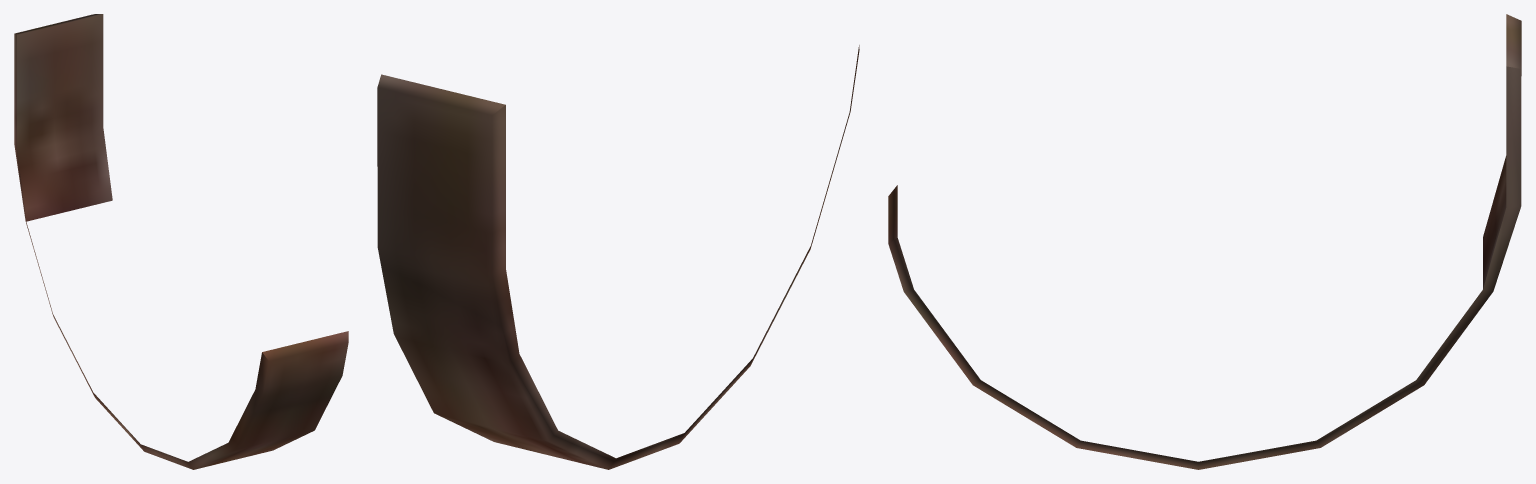
File: gutter_cornice_support.glb
3 views of the same model, side by side, from view 1: azimuth 30°, elevation 25°; view 2: azimuth 150°, elevation 25°; view 3: azimuth 270°, elevation 25° (orthographic). The views are drawn at different scales.
Parts seen in each view (by area): view 1: gutter_cornice_support; view 2: gutter_cornice_support; view 3: gutter_cornice_support.
Boxes of the visible parts, x1,y1,x2,y2 form: gutter_cornice_support: (14, 14, 348, 469); gutter_cornice_support: (377, 45, 859, 469); gutter_cornice_support: (888, 14, 1521, 469).
Bounding box in the file's own units: 0.0306 × 0.1105 × 0.1563.
Materials: 1 (1 with a texture image).
